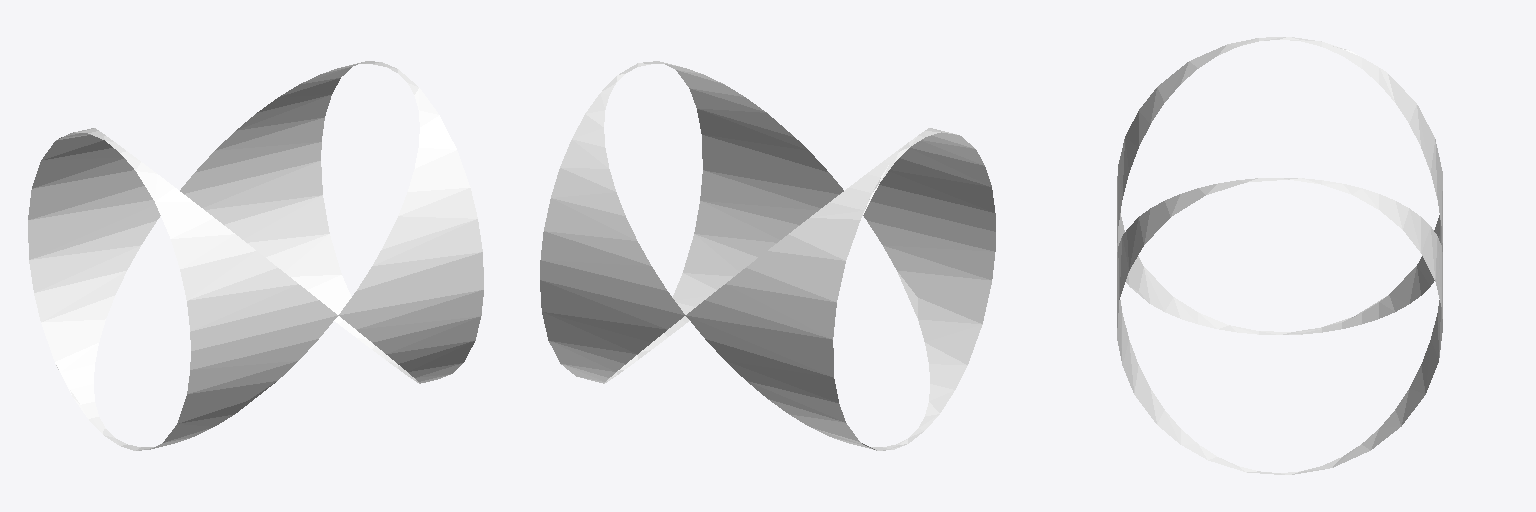
The model's file is ChainCenter.obj.
3 views of the same model, side by side, from view 1: azimuth 30°, elevation 25°; view 2: azimuth 150°, elevation 25°; view 3: azimuth 270°, elevation 25° (orthographic).
Parts seen in each view (by area): view 1: ChainCenter.003; view 2: ChainCenter.003; view 3: ChainCenter.003.
Part boxes in pixels (left/top/right/bottom): ChainCenter.003: left=28, top=61, right=483, bottom=450; ChainCenter.003: left=540, top=61, right=995, bottom=450; ChainCenter.003: left=1117, top=37, right=1442, bottom=474.
Size of the model in its own units: 1.89 by 1.82 by 1.82.